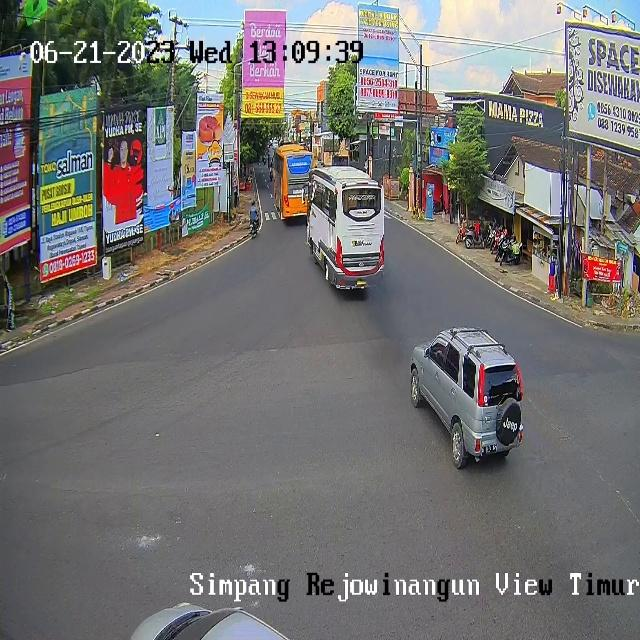bus: (248, 218, 260, 239)
car: (307, 165, 385, 290), (272, 144, 316, 221)
motorcycle: (411, 326, 523, 469), (129, 602, 291, 640)
